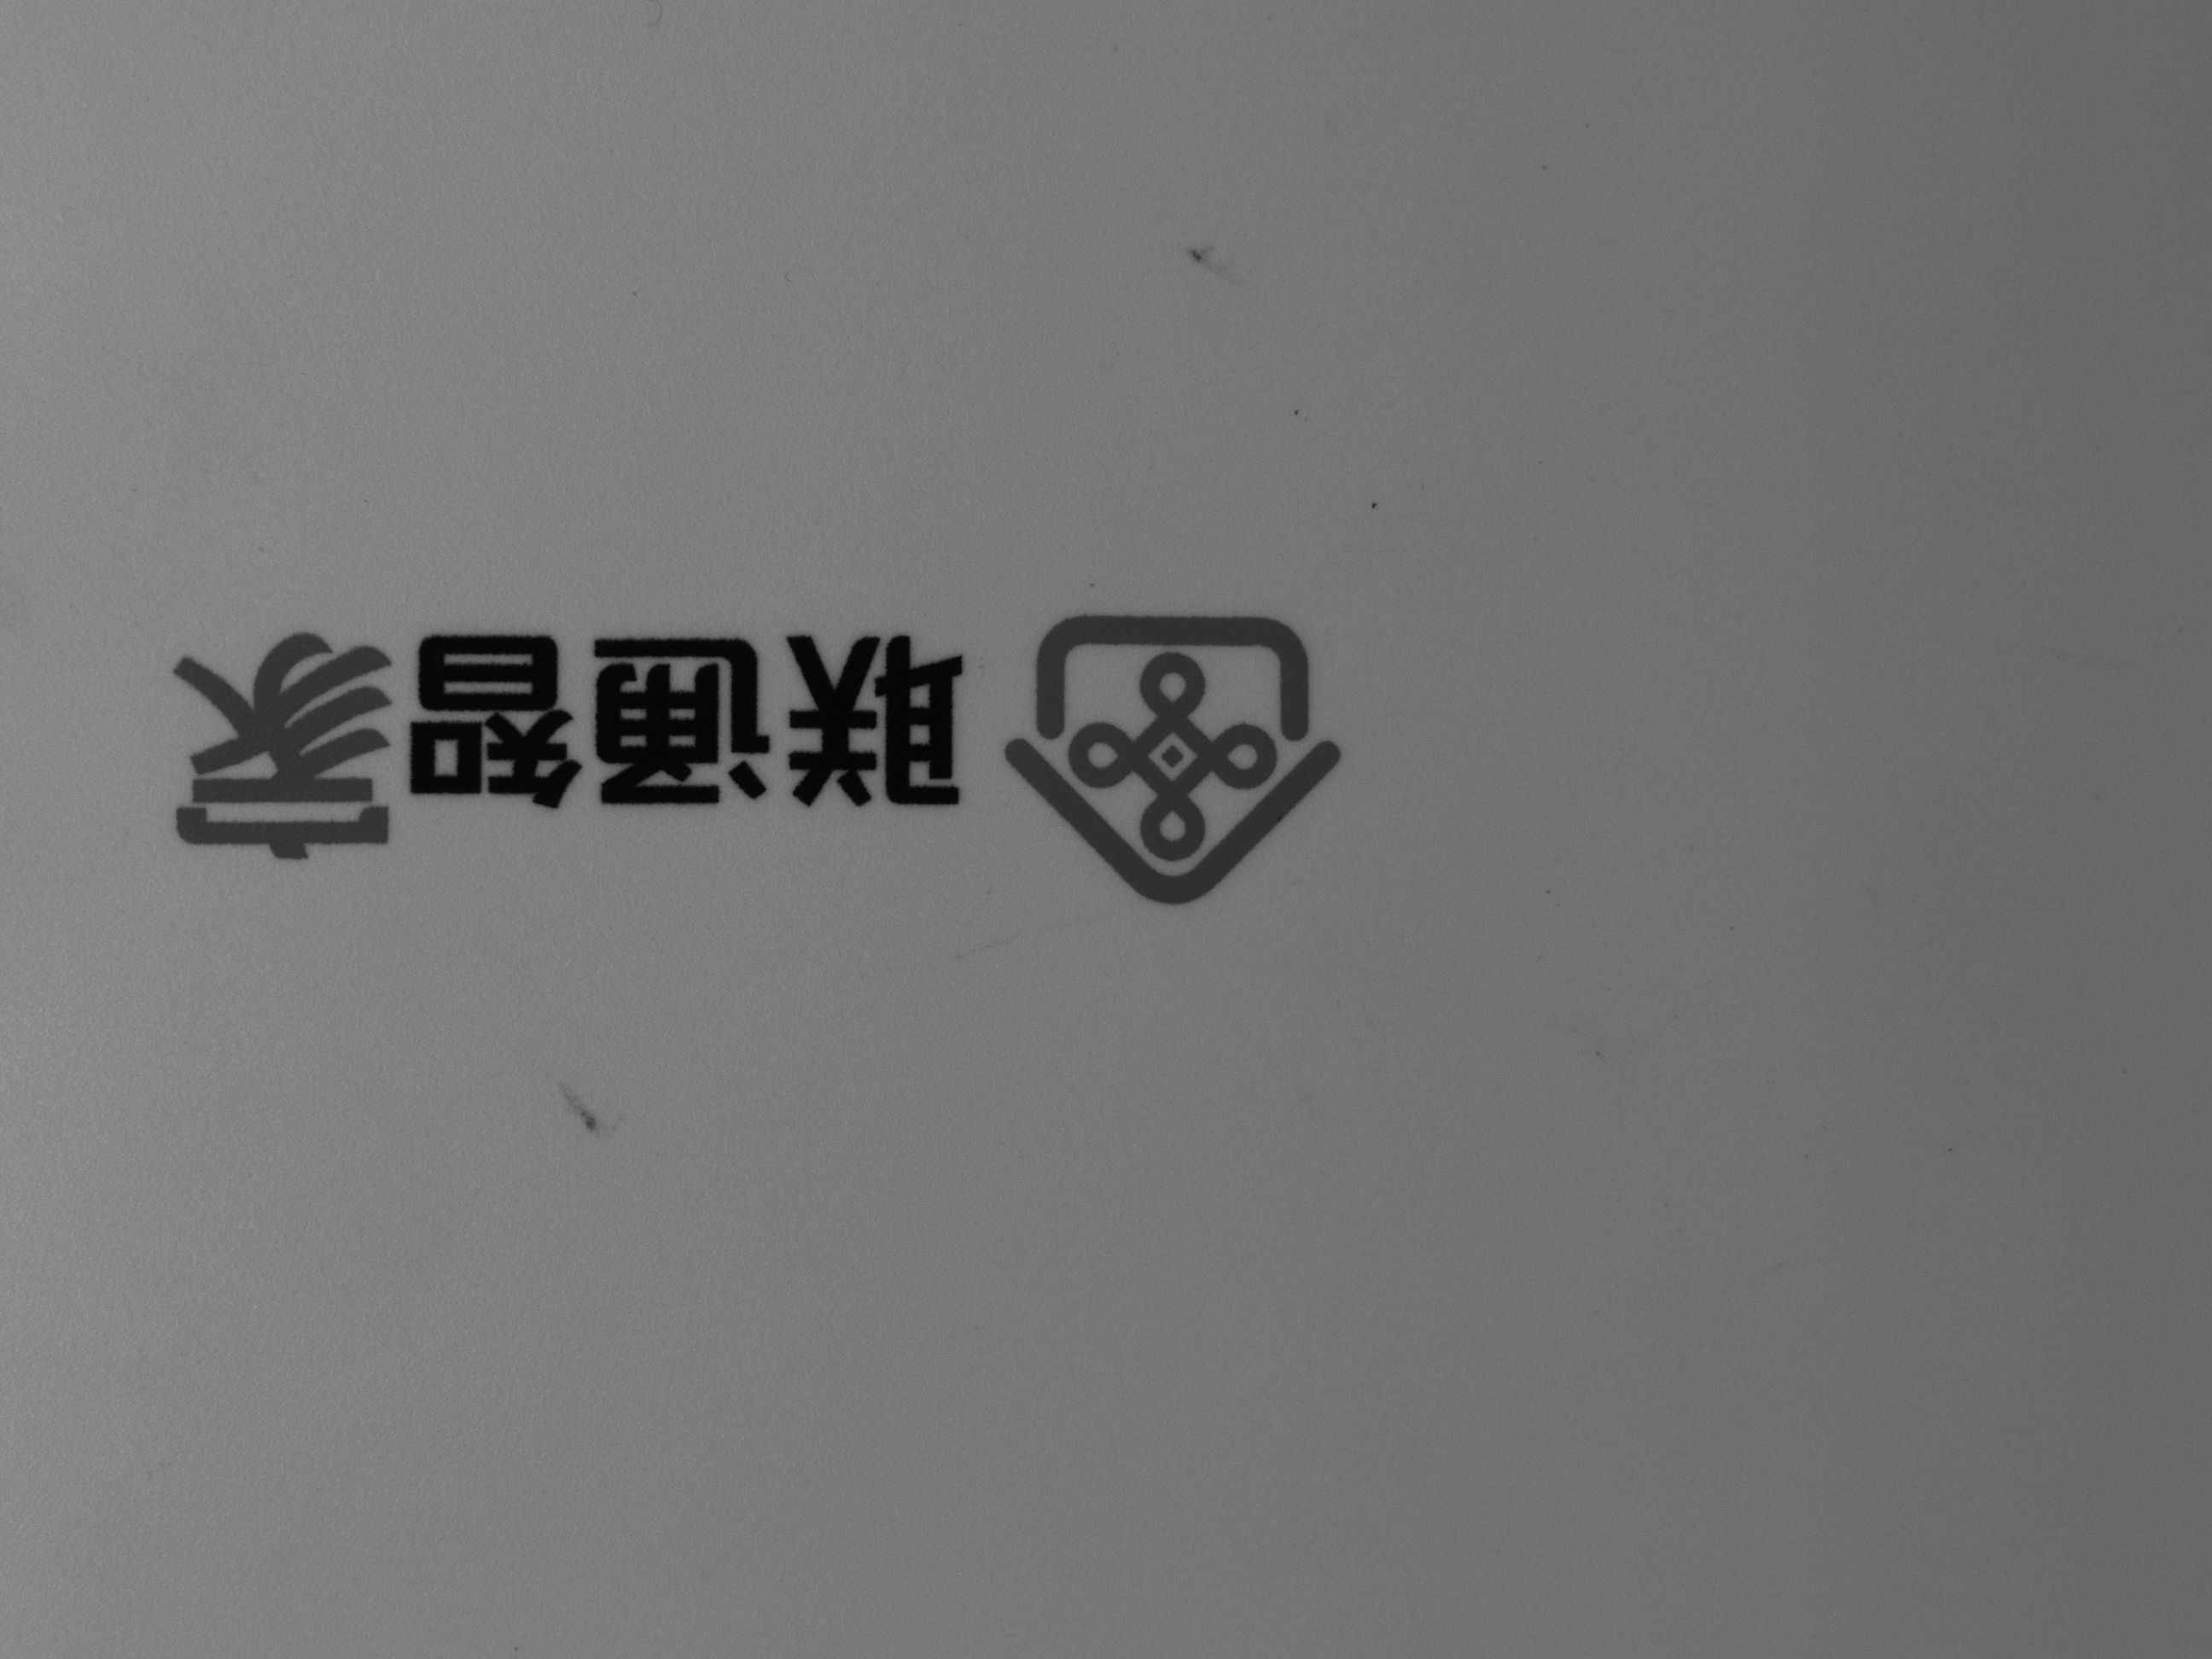BY_F6610Unicome: (92, 549, 1343, 918)
